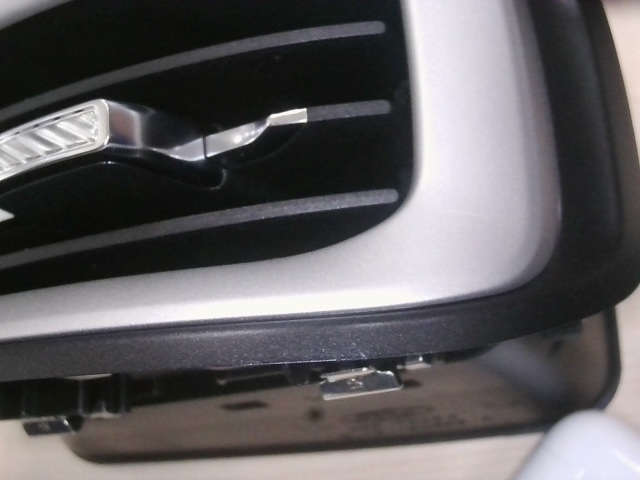NG: (441, 196, 501, 235), (337, 332, 384, 367)
